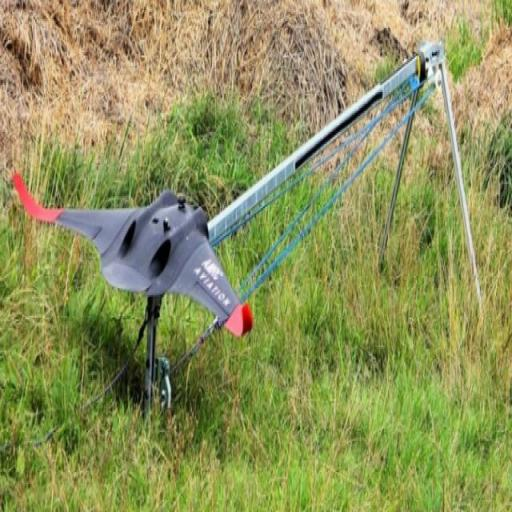uav: (10, 144, 257, 406)
